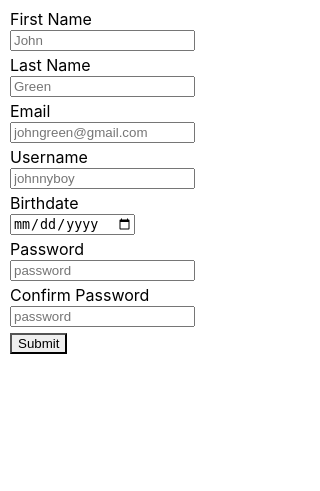
Test: RegisterForm › should display error when first_name is invalid
Step 1. Type "123456789" into the field labelled "First Name" → (102, 40), box [10, 30, 195, 51]
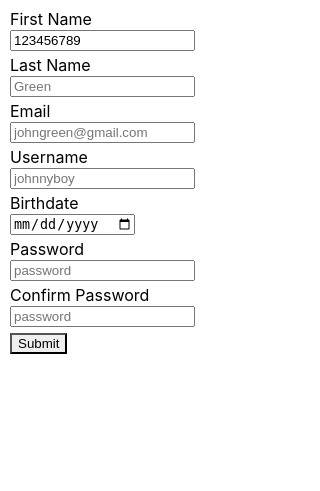
Step 2. Submit the form from the button, box [10, 333, 68, 354]
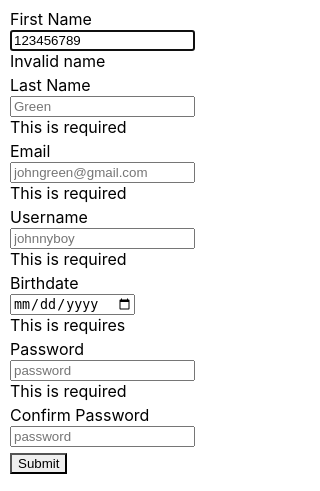
Check: the message "Invalid name" is shown, box [10, 51, 105, 71]
